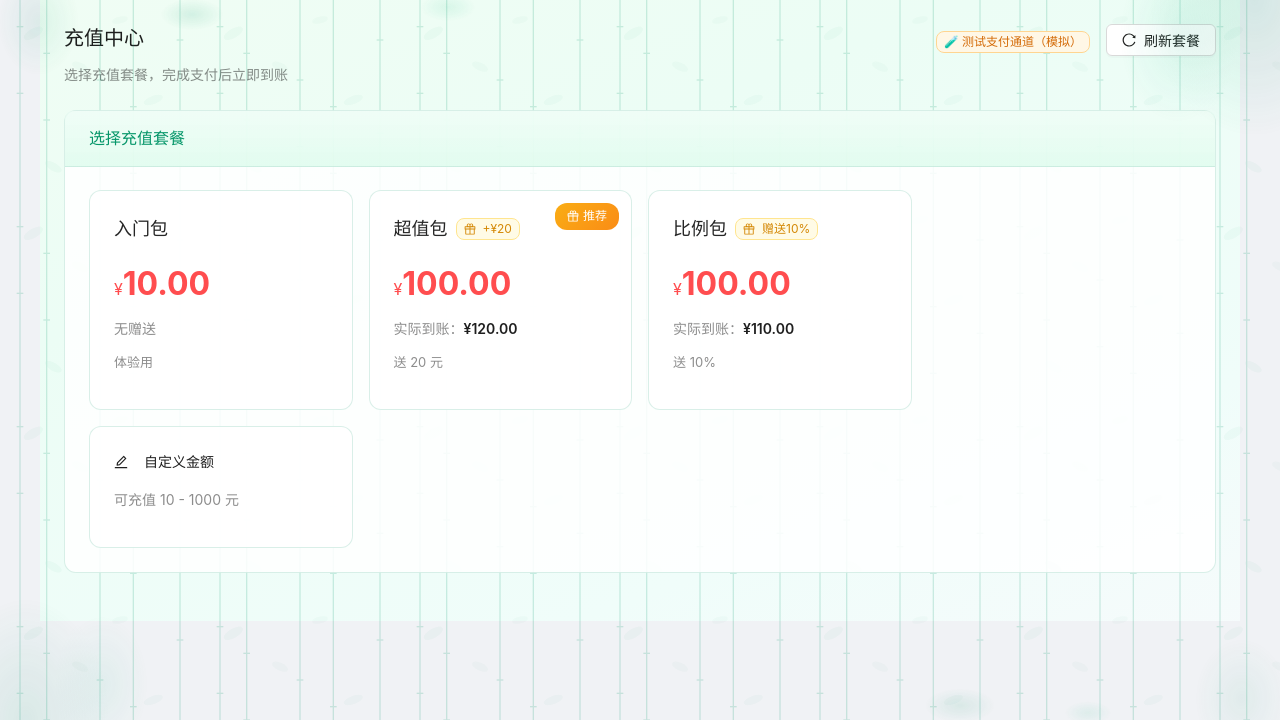
it: 初始化 › TC-FE-RECHARGE-006: 套餐与自定义金额互斥（选一即取消另一）
Note: 先选套餐 → 摘要区「充值方式」显示套餐名
What coordinates should you click on to do the following:
click the text "入门包"
I would click on:
 (141, 228)
Its box is [114,218,168,239].
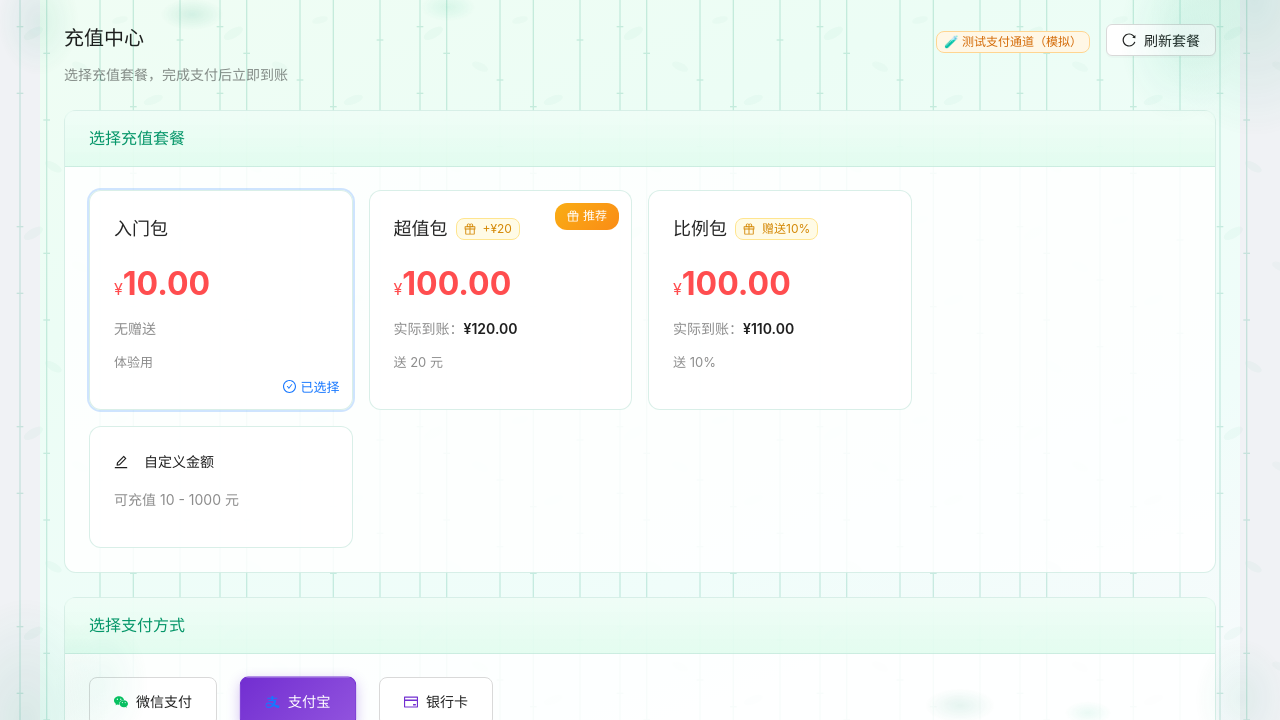
Note: 切到自定义金额 → 摘要区不再显示该套餐名
What coordinates should you click on to do the following:
click the text "自定义金额"
I would click on:
 (179, 462)
Its box is [144,453,214,470].
(page scrolled)
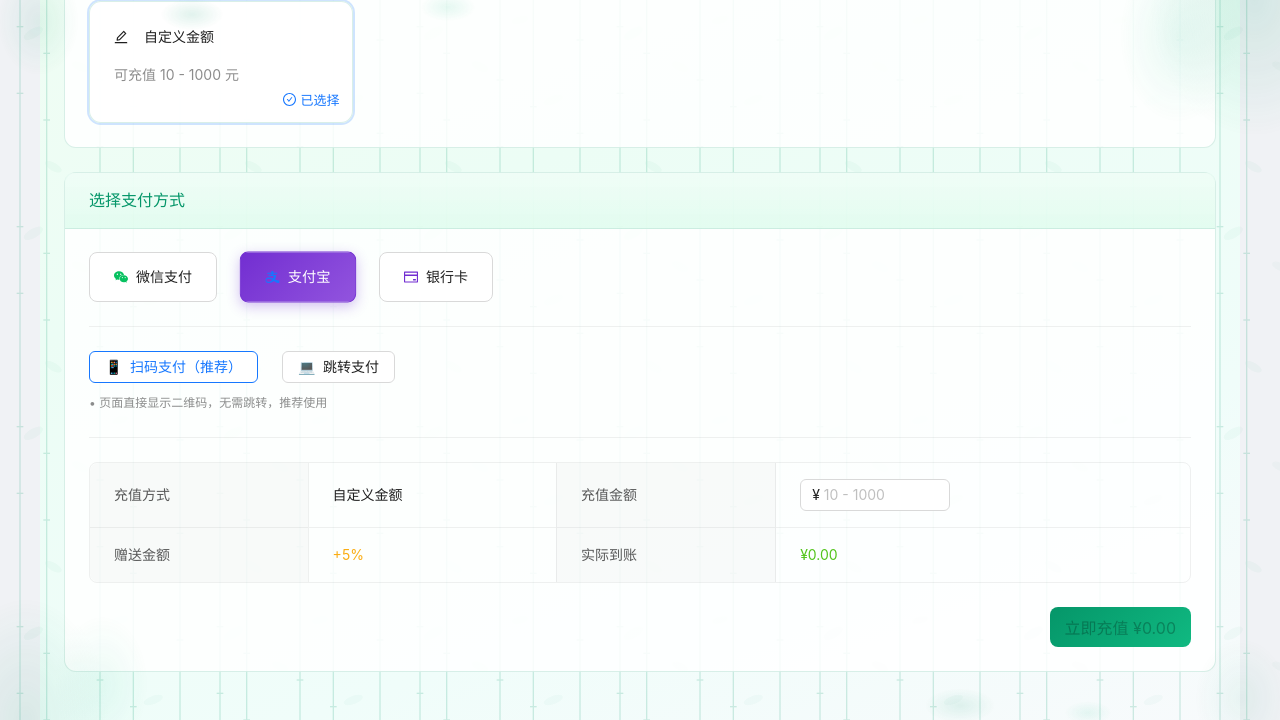
Expected: the text "充值金额" is shown, [581,486,637,503]
